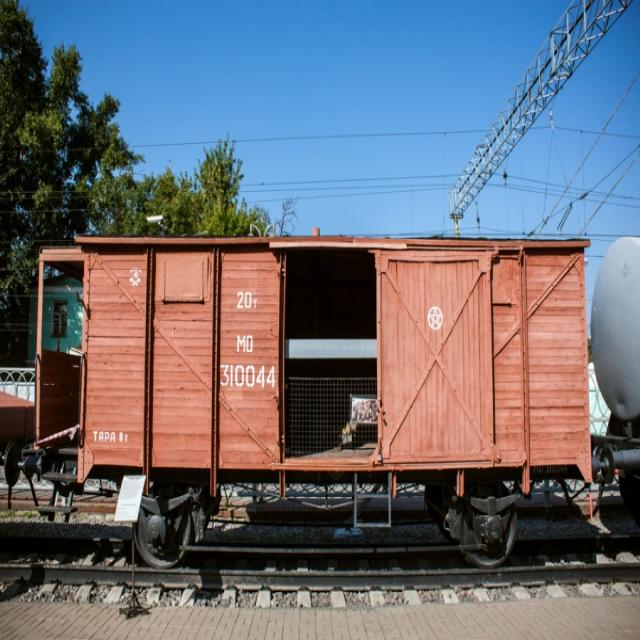boxcar: (18, 192, 602, 582)
tank: (592, 214, 640, 532)
